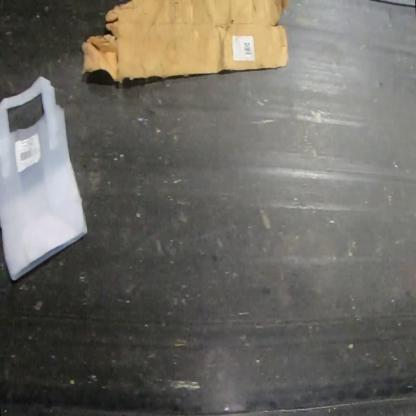cardboard: (80, 0, 290, 83)
soft_plastic: (0, 76, 88, 283)
